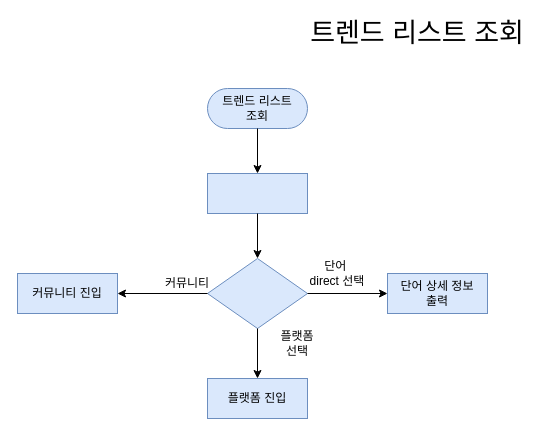
This 545x436 diagram has some shape labels left out. Each missing label, with the centre of its shape:
"TOP 트렌드 리스트 화면 진입" goes at [257,193].
"메뉴 선택" goes at [257,293].
